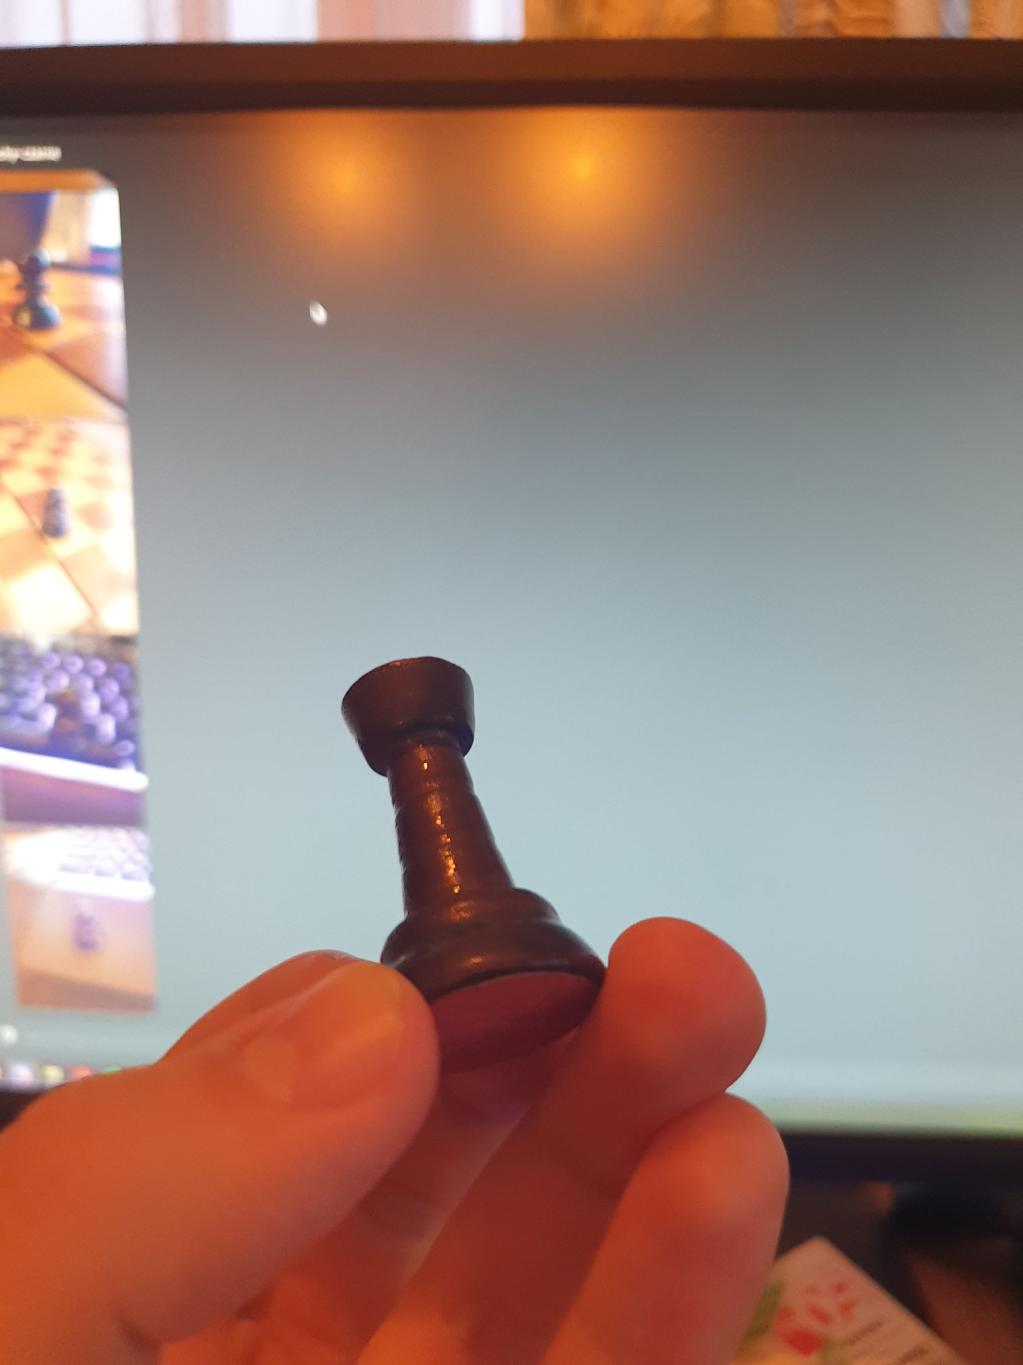brook: (338, 657, 602, 1069)
